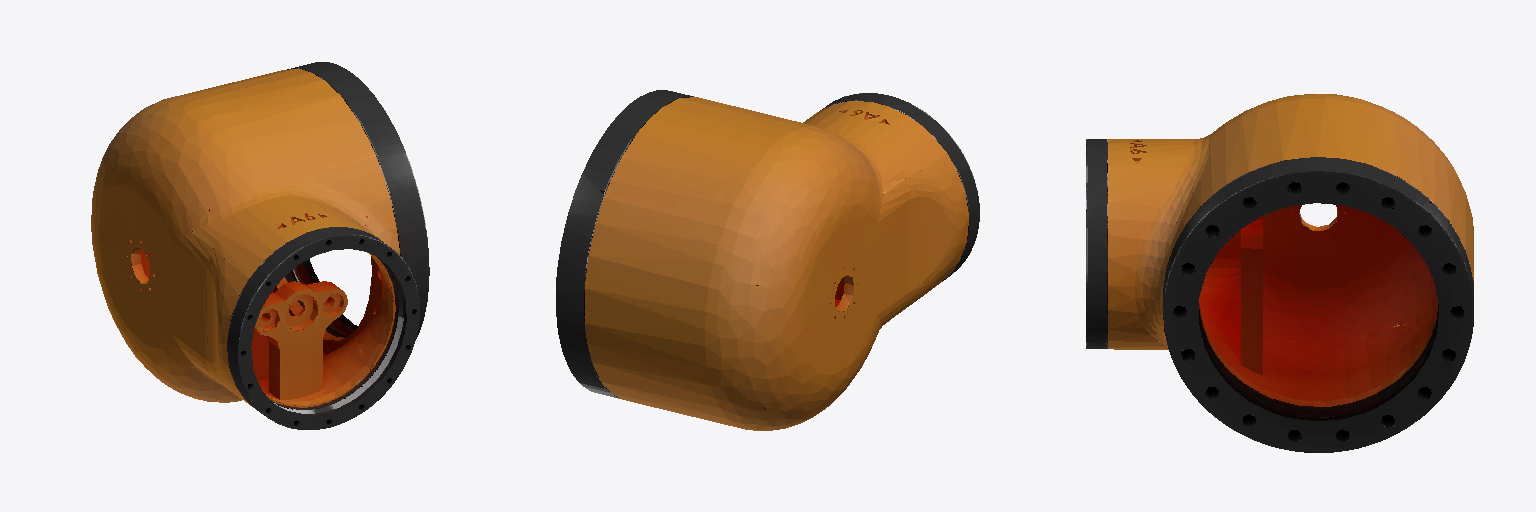
3 renders of one model, left to right at view 1: azimuth 30°, elevation 25°; view 2: azimuth 150°, elevation 25°; view 3: azimuth 270°, elevation 25°, orthographic.
Visible parts, largest first — view 1: Axis5_-_GearBox6(Axis6)-1, Axis5_-_RB13020(GearBox6)-1_RB13020_Outer(GearBox6)-1; view 2: Axis5_-_GearBox6(Axis6)-1, Axis5_-_RB13020(GearBox6)-1_RB13020_Outer(GearBox6)-1; view 3: Axis5_-_GearBox6(Axis6)-1, Axis5_-_RB13020(GearBox6)-1_RB13020_Outer(GearBox6)-1.
Part boxes in pixels (bbox=[...]): Axis5_-_GearBox6(Axis6)-1: bbox=[91, 68, 399, 408]; Axis5_-_RB13020(GearBox6)-1_RB13020_Outer(GearBox6)-1: bbox=[227, 62, 429, 429]; Axis5_-_GearBox6(Axis6)-1: bbox=[585, 97, 968, 430]; Axis5_-_RB13020(GearBox6)-1_RB13020_Outer(GearBox6)-1: bbox=[556, 90, 979, 398]; Axis5_-_GearBox6(Axis6)-1: bbox=[1108, 94, 1473, 408]; Axis5_-_RB13020(GearBox6)-1_RB13020_Outer(GearBox6)-1: bbox=[1086, 139, 1473, 452].
Bounding box in the file's own units: 0.3102 × 0.3634 × 0.4525.
Materials: 2 (1 with a texture image).